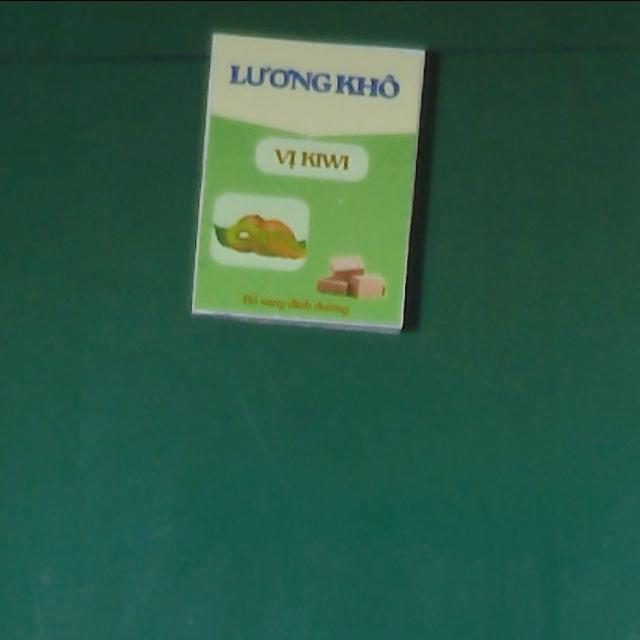kiwi: (191, 32, 426, 333)
